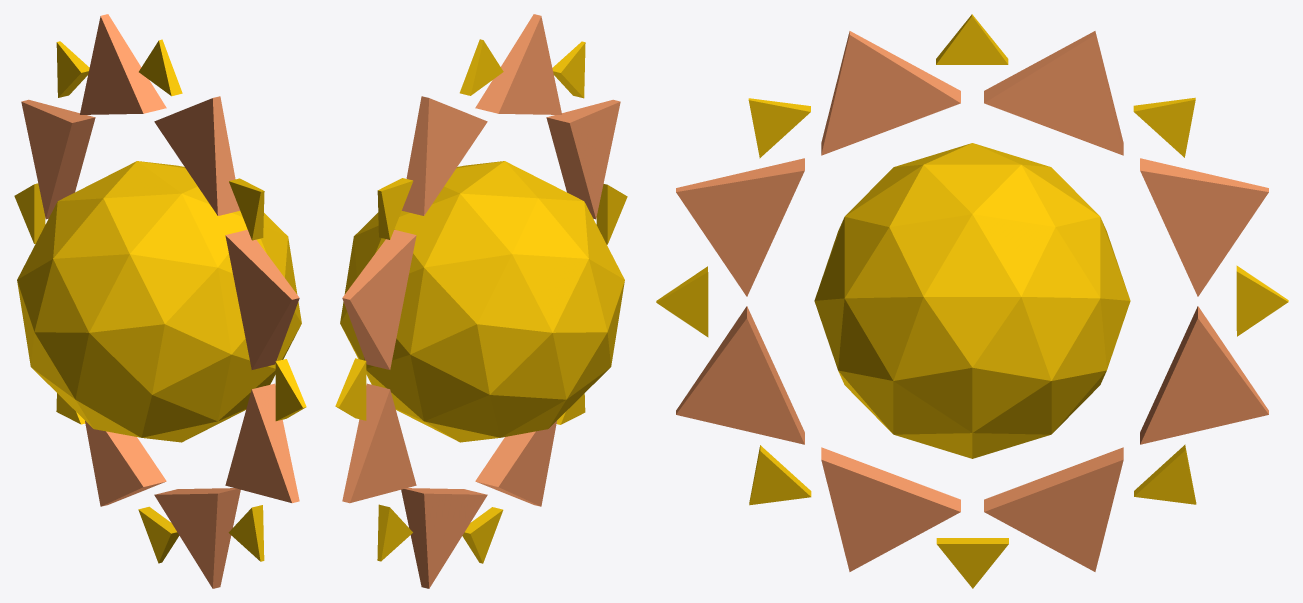
The model's file is sun_02.gltf.
3 renders of one model, left to right at view 1: azimuth 30°, elevation 25°; view 2: azimuth 150°, elevation 25°; view 3: azimuth 270°, elevation 25°, orthographic. The views are drawn at different scales.
Parts seen in each view (by area): view 1: node-0; view 2: node-0; view 3: node-0.
Part boxes in pixels (left/top/right/bottom): node-0: left=14, top=14, right=306, bottom=588; node-0: left=335, top=14, right=627, bottom=588; node-0: left=656, top=14, right=1288, bottom=588.
Bounding box in the file's own units: 106 × 212 × 212.
